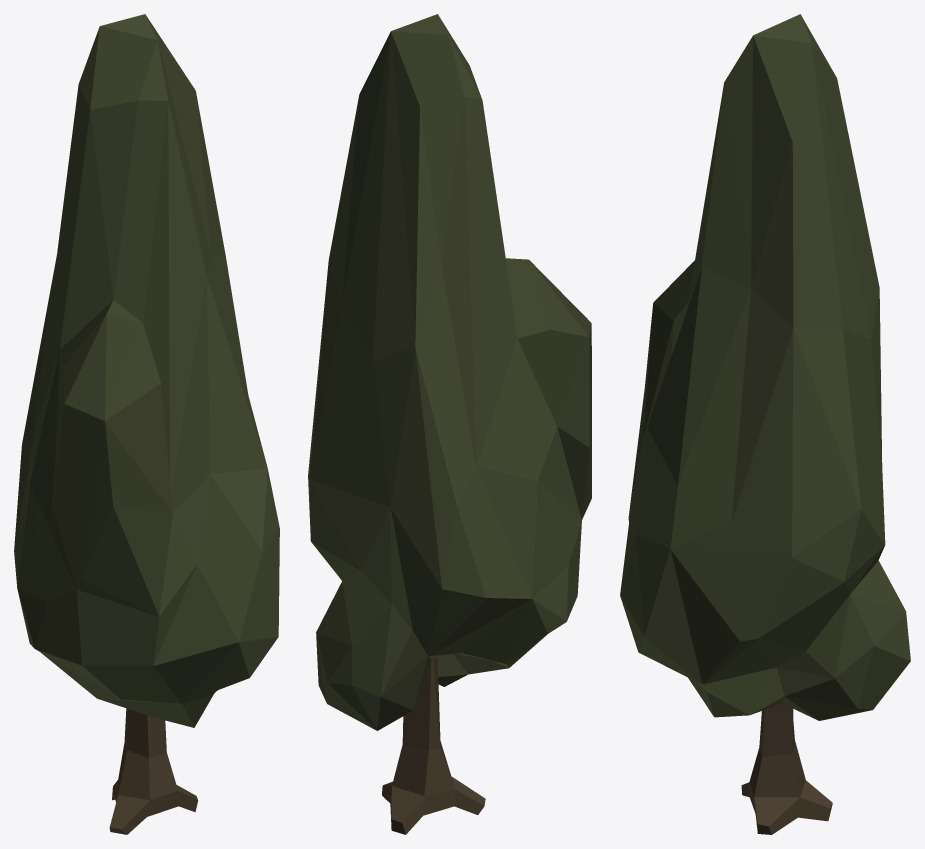
The model's file is SM_Env_Tree_Thin_03.fbx.
The picture shows the model from 3 angles, left to right: view 1: azimuth 30°, elevation 25°; view 2: azimuth 150°, elevation 25°; view 3: azimuth 270°, elevation 25°; orthographic projection.
Parts seen in each view (by area): view 1: SM_Env_Tree_Thin_03; view 2: SM_Env_Tree_Thin_03; view 3: SM_Env_Tree_Thin_03.
Boxes of the visible parts, bbox=[...] form: SM_Env_Tree_Thin_03: bbox=[14, 14, 279, 834]; SM_Env_Tree_Thin_03: bbox=[308, 14, 591, 834]; SM_Env_Tree_Thin_03: bbox=[620, 14, 910, 834].
Bounding box in the file's own units: 285 × 905 × 303.
